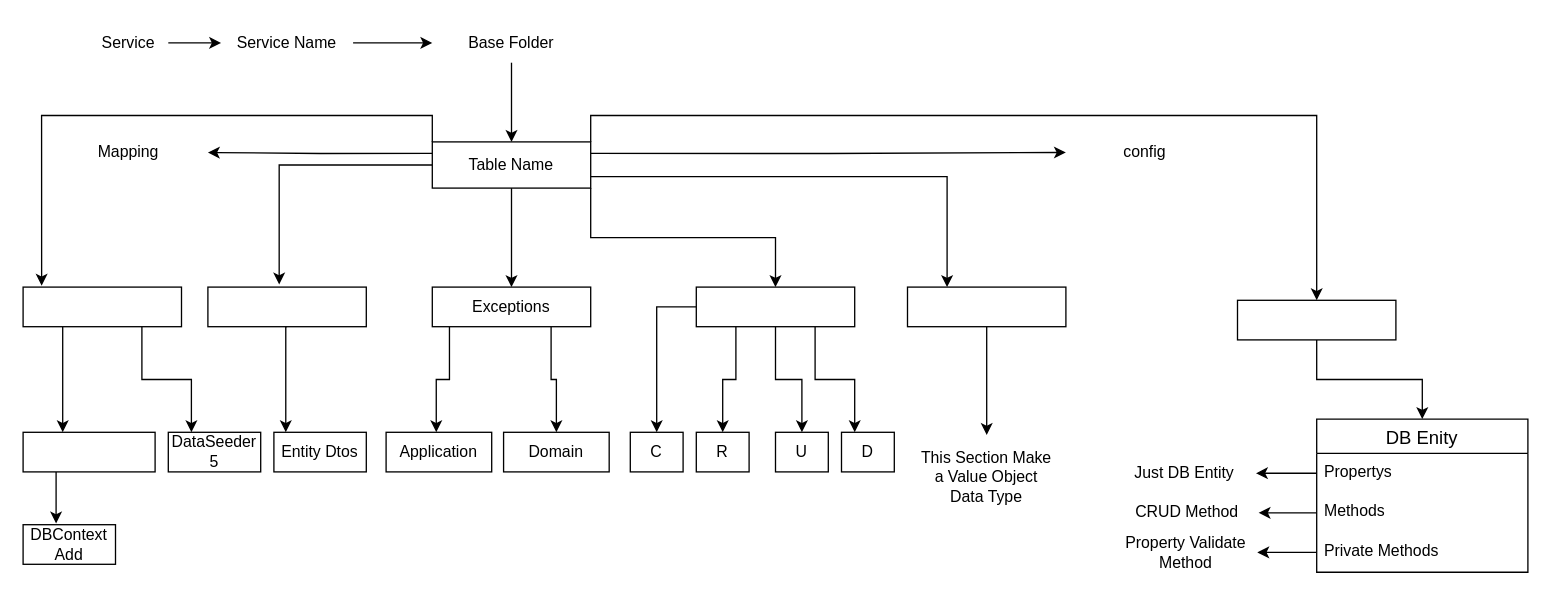
This 1551x598 diagram has some shape labels left out. Each missing label, with the centre of its shape:
"Data 3" belongs at (x=102, y=306).
"Dtos" belongs at (x=286, y=306).
"Entity 4 Configuration" belongs at (x=88, y=451).
"Features" belongs at (x=775, y=306).
"Models 1" belongs at (x=1316, y=319).
"ValueObjects 2" belongs at (x=986, y=306).
